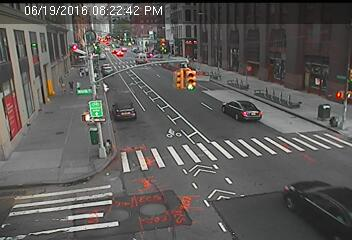neg: (265, 57, 290, 91), (233, 63, 251, 87), (159, 67, 175, 88), (213, 58, 223, 72)
pos: (54, 78, 67, 95), (67, 78, 77, 92)
